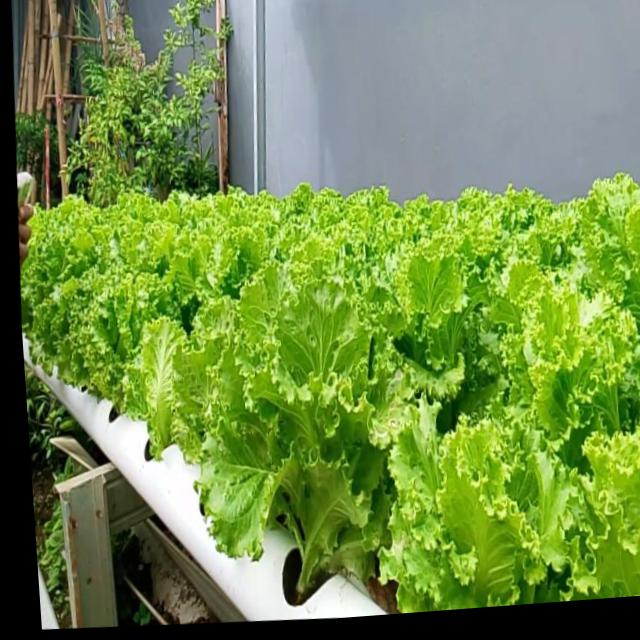Mature: (184, 281, 405, 613), (60, 271, 165, 434)
